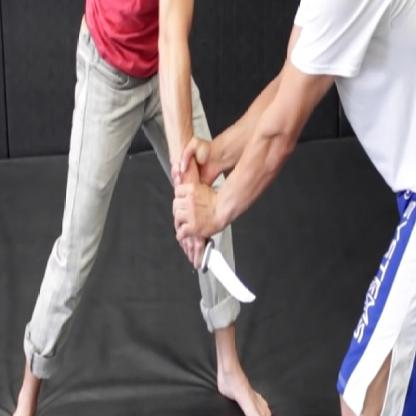knife: (170, 228, 263, 310)
